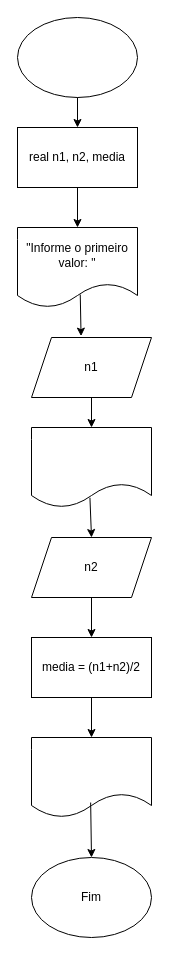
Image size: 169x955. Some labels were removed from this diagram. The shapes that lost their labels are listed below. From the top down, each one's box as (x1, y1, x2, y2) in pixels, then its label:
(16, 16, 138, 98): Inicio
(30, 426, 152, 508): "Informe o segundo valor: "
(30, 736, 152, 818): "Média: ",media
